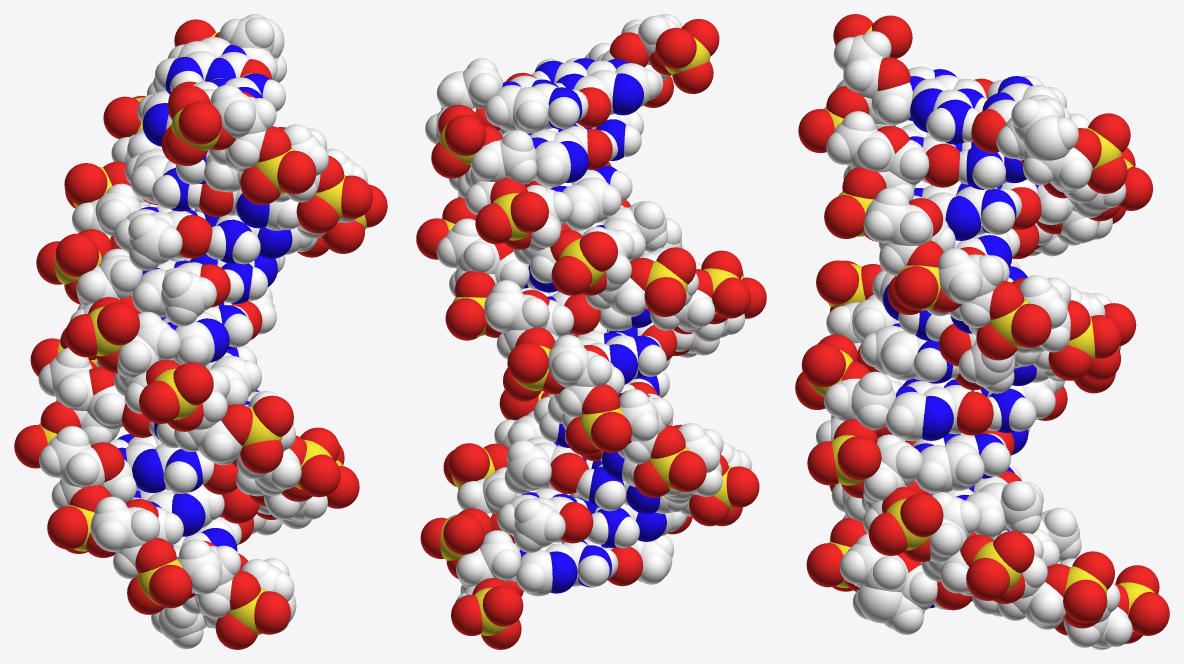
File: DNAHelix_vdw.fbx
The picture shows the model from 3 angles, left to right: view 1: azimuth 30°, elevation 25°; view 2: azimuth 150°, elevation 25°; view 3: azimuth 270°, elevation 25°; orthographic projection. The views are drawn at different scales.
Visible parts, largest first — view 1: O1P, O1P_10, O2P_20, O2P_19, O1P_9, O2P_21, O1P_16, O1P_18, O1P_1, O2P_18, O1P_11, O2P_22 (+86 smaller); view 2: O1P_6, O2P_13, O2P_23, O3_, O1P_7, O1P_5, O1P_20, O2P_12, O2P_14, O2P_22, O1P_21, O1P_19 (+99 smaller); view 3: O1P_3, O2P_16, O2P_17, O1P_13, O2P_18, O1P_14, O2P_15, C3__23, O1P_2, O1P_4, O1P_12, O1P_11 (+107 smaller).
Part boxes in pixels (left/top/right/bottom): O1P: left=178, top=101, right=221, bottom=144; O1P_10: left=149, top=564, right=192, bottom=608; O2P_20: left=55, top=233, right=98, bottom=276; O2P_19: left=97, top=302, right=139, bottom=345; O1P_9: left=47, top=506, right=87, bottom=549; O2P_21: left=64, top=163, right=107, bottom=205; O1P_16: left=298, top=454, right=340, bottom=497; O1P_18: left=139, top=380, right=179, bottom=423; O1P_1: left=277, top=150, right=316, bottom=194; O2P_18: left=173, top=362, right=213, bottom=405; O1P_11: left=254, top=591, right=290, bottom=634; O2P_22: left=103, top=96, right=141, bottom=139; O1P_6: left=507, top=342, right=548, bottom=383; O2P_13: left=443, top=513, right=484, bottom=554; O2P_23: left=444, top=114, right=485, bottom=155; O3_: left=655, top=27, right=696, bottom=69; O1P_7: left=590, top=411, right=631, bottom=452; O1P_5: left=445, top=298, right=486, bottom=339; O1P_20: left=644, top=277, right=685, bottom=316; O2P_12: left=482, top=585, right=523, bottom=626; O2P_14: left=448, top=443, right=489, bottom=483; O2P_22: left=510, top=191, right=548, bottom=232; O1P_21: left=551, top=256, right=592, bottom=295; O1P_19: left=712, top=277, right=751, bottom=318; O1P_3: left=894, top=266, right=938, bottom=310; O2P_16: left=837, top=436, right=881, bottom=479; O2P_17: left=801, top=343, right=845, bottom=387; O1P_13: left=1063, top=579, right=1107, bottom=623; O2P_18: left=816, top=260, right=859, bottom=304; O1P_14: left=966, top=557, right=1009, bottom=600; O2P_15: left=900, top=493, right=943, bottom=537; C3__23: left=1023, top=115, right=1069, bottom=160; O1P_2: left=824, top=195, right=865, bottom=238; O1P_4: left=1011, top=303, right=1051, bottom=347; O1P_12: left=1128, top=592, right=1169, bottom=635; O1P_11: left=806, top=543, right=843, bottom=587.
Bounding box in the file's own units: 129 × 223 × 128.
Materials: 6 (1 with a texture image).
